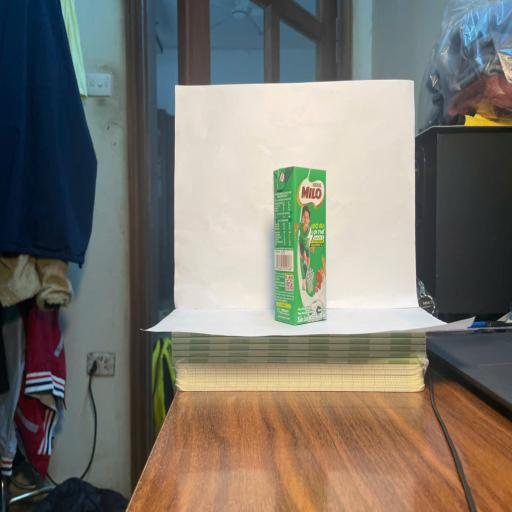milo: (273, 168, 327, 324)
